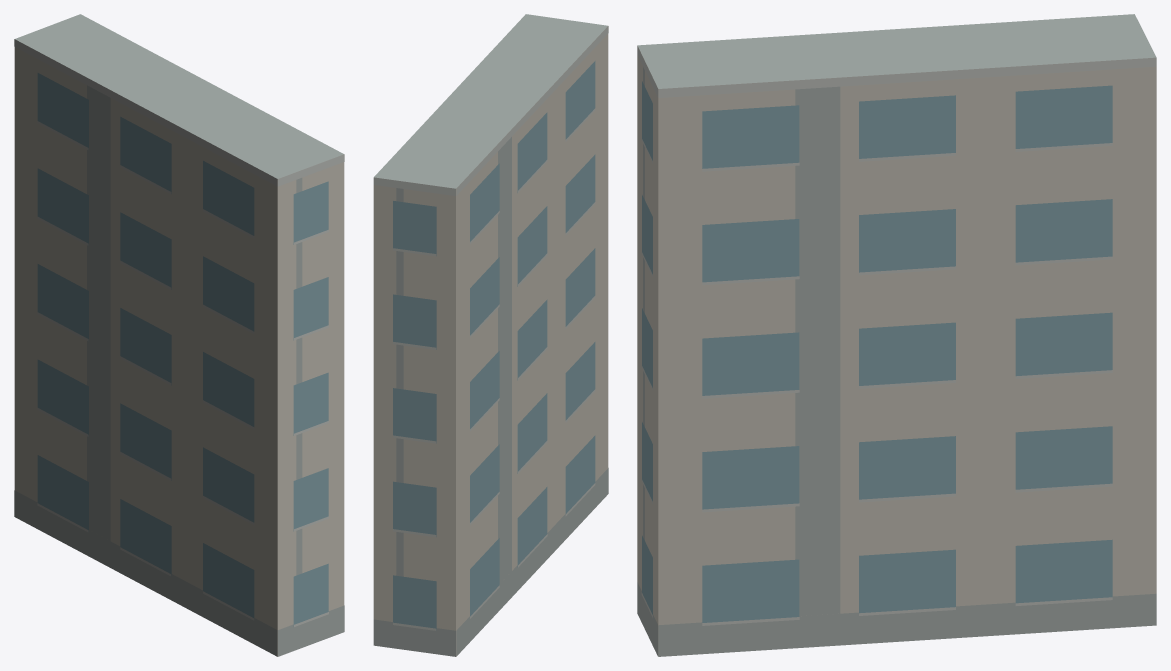
Rendered from survey-upis-32643678.glb.
3 views of the same model, side by side, from view 1: azimuth 30°, elevation 25°; view 2: azimuth 150°, elevation 25°; view 3: azimuth 270°, elevation 25° (orthographic). The views are drawn at different scales.
Visible parts, largest first — view 1: survey-upis-32643678.tmp; view 2: survey-upis-32643678.tmp; view 3: survey-upis-32643678.tmp.
Part boxes in pixels (x1,y1,x2,y2): survey-upis-32643678.tmp: (14, 14, 344, 656); survey-upis-32643678.tmp: (373, 14, 608, 656); survey-upis-32643678.tmp: (637, 14, 1156, 656).
Bounding box in the file's own units: 4.33 × 15.25 × 12.65.
